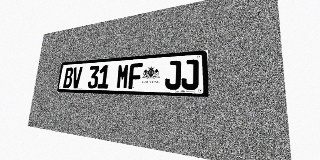1: (97, 65, 110, 89)
3: (87, 66, 100, 88)
B: (63, 67, 74, 88)
F: (128, 63, 143, 89)
J: (181, 59, 199, 90), (165, 60, 181, 90)
M: (116, 64, 130, 89)
V: (71, 67, 83, 88)
